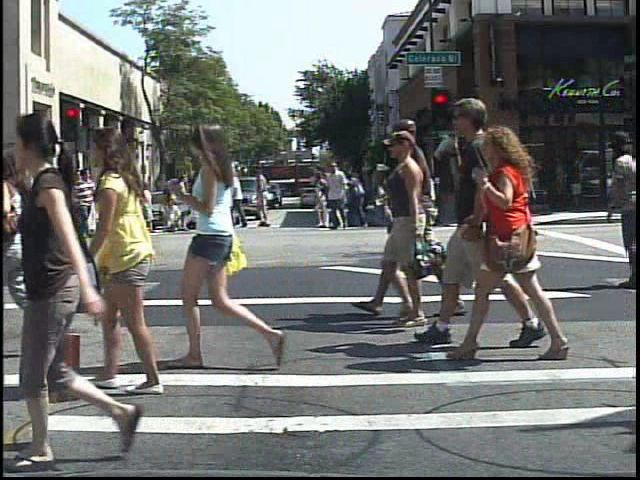person: (8, 104, 156, 473), (176, 111, 300, 379), (416, 84, 523, 351), (87, 117, 183, 397), (472, 121, 578, 364), (0, 131, 17, 365), (116, 161, 149, 242), (71, 163, 101, 242), (462, 159, 492, 231), (28, 168, 54, 243), (5, 177, 22, 241), (96, 180, 116, 223)
